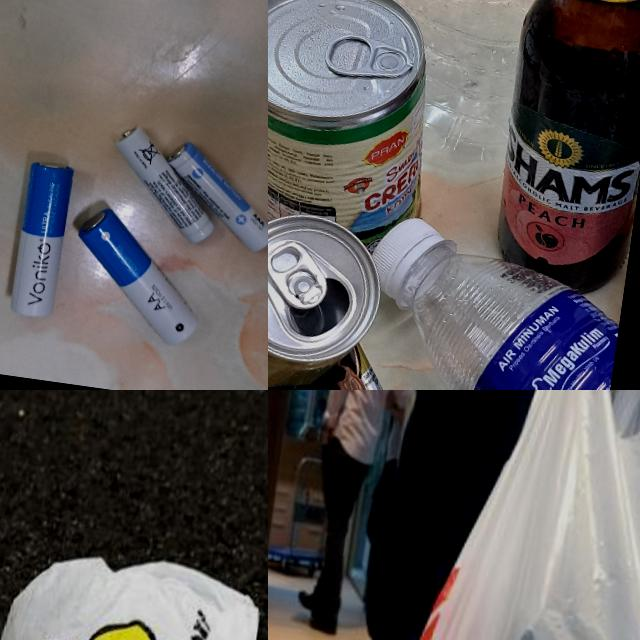aba de lata: (268, 236, 331, 312), (327, 34, 415, 84)
bateria: (64, 202, 212, 349), (104, 125, 226, 246), (155, 138, 268, 255), (10, 160, 74, 320)
garrafa de vidro: (482, 0, 640, 298)
garrafa plástica: (321, 0, 612, 186), (397, 246, 626, 390)
lata: (268, 0, 452, 261), (268, 204, 434, 390)
sacola plástica: (315, 390, 640, 640), (0, 525, 268, 640)
tampa plástica: (364, 211, 442, 304)
